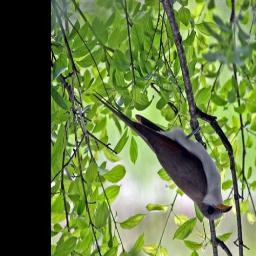Cuckoo: (94, 88, 234, 220)
